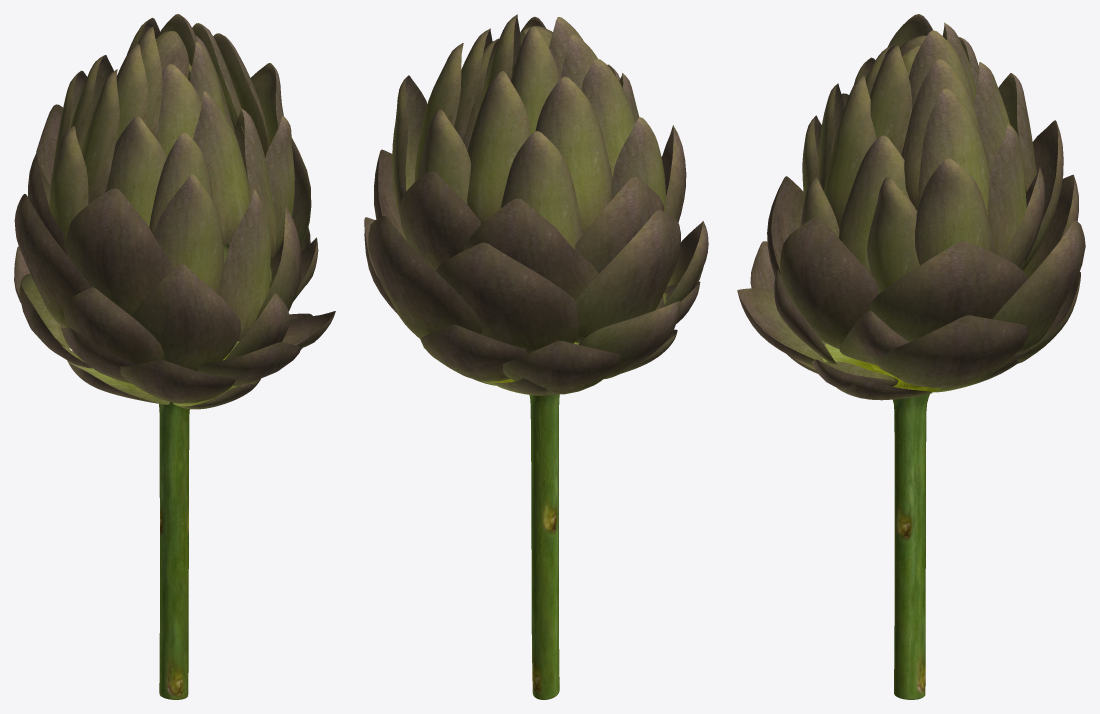
The model's file is artichoke.glb.
3 renders of one model, left to right at view 1: azimuth 30°, elevation 25°; view 2: azimuth 150°, elevation 25°; view 3: azimuth 270°, elevation 25°, orthographic. The views are drawn at different scales.
Parts seen in each view (by area): view 1: atiso.050, atiso.009, atiso.002, atiso.032, atiso.033, atiso.019, atiso.004, atiso.007, atiso.031, atiso.046, atiso.022, atiso.025 (+26 smaller); view 2: atiso.028, atiso.050, atiso.004, atiso.029, atiso.023, atiso.024, atiso.039, atiso.038, atiso.040, atiso.049, atiso.041, atiso.044 (+18 smaller); view 3: atiso.050, atiso.005, atiso.003, atiso.043, atiso.027, atiso.029, atiso.026, atiso.036, atiso.035, atiso.019, atiso.037, atiso.020 (+20 smaller).
Boxes of the visible parts, bbox=[...] form: atiso.050: bbox=[159, 402, 189, 699]; atiso.009: bbox=[65, 188, 172, 316]; atiso.002: bbox=[132, 264, 240, 371]; atiso.032: bbox=[153, 174, 224, 293]; atiso.033: bbox=[218, 189, 270, 341]; atiso.019: bbox=[193, 91, 251, 244]; atiso.004: bbox=[14, 194, 91, 327]; atiso.007: bbox=[64, 287, 163, 375]; atiso.031: bbox=[105, 116, 166, 226]; atiso.046: bbox=[120, 360, 235, 403]; atiso.022: bbox=[82, 69, 119, 204]; atiso.025: bbox=[49, 126, 88, 248]; atiso.028: bbox=[435, 242, 579, 353]; atiso.050: bbox=[529, 394, 559, 699]; atiso.004: bbox=[575, 210, 680, 343]; atiso.029: bbox=[368, 216, 482, 338]; atiso.023: bbox=[535, 76, 612, 233]; atiso.024: bbox=[467, 71, 530, 225]; atiso.039: bbox=[463, 198, 598, 300]; atiso.038: bbox=[500, 131, 583, 249]; atiso.040: bbox=[400, 171, 480, 270]; atiso.049: bbox=[502, 340, 620, 394]; atiso.041: bbox=[575, 177, 663, 273]; atiso.044: bbox=[420, 324, 527, 381]; atiso.050: bbox=[893, 386, 929, 699]; atiso.005: bbox=[869, 241, 1028, 342]; atiso.003: bbox=[779, 217, 879, 348]; atiso.043: bbox=[873, 315, 1028, 388]; atiso.027: bbox=[914, 158, 994, 264]; atiso.029: bbox=[992, 220, 1085, 354]; atiso.026: bbox=[918, 88, 990, 216]; atiso.036: bbox=[867, 177, 919, 292]; atiso.035: bbox=[839, 135, 914, 274]; atiso.019: bbox=[824, 76, 876, 228]; atiso.037: bbox=[987, 123, 1026, 268]; atiso.020: bbox=[904, 59, 985, 210].
Bounding box in the file's own units: 0.0948 × 0.2126 × 0.0996.
3 materials, 2 textured.
